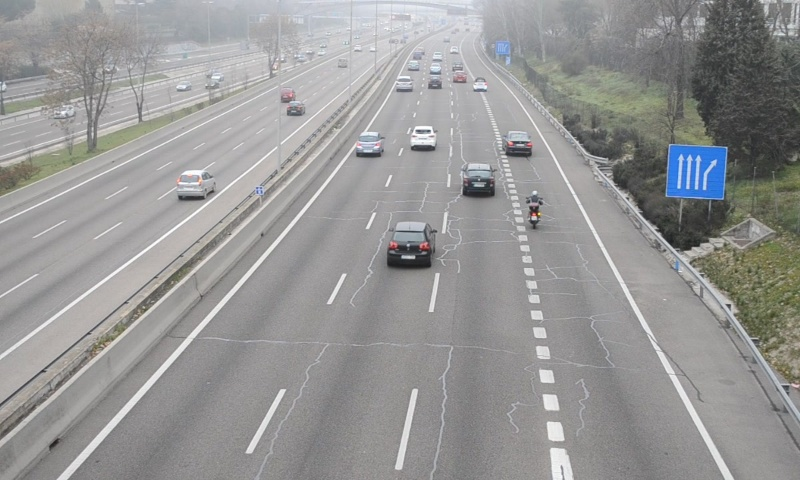car: (386, 221, 435, 267), (462, 164, 495, 196), (502, 130, 532, 155), (354, 132, 384, 157), (410, 126, 438, 150), (396, 74, 413, 92), (473, 76, 487, 92)
motorcycle: (524, 188, 544, 230)
